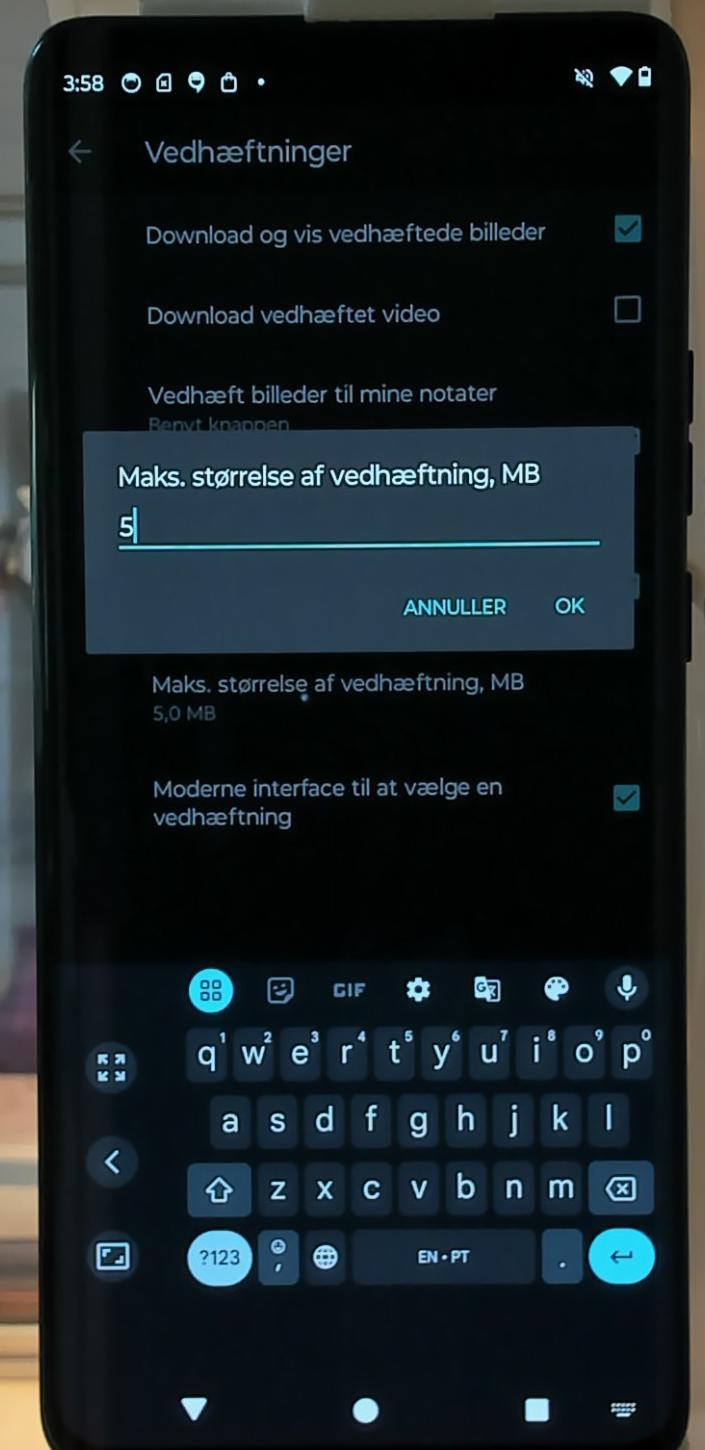CommunBotton: (76, 1121, 144, 1197), (80, 1028, 140, 1105), (593, 955, 653, 1014), (81, 1229, 140, 1286), (183, 961, 238, 1021), (525, 957, 585, 1012), (450, 961, 515, 1011), (319, 964, 378, 1016), (253, 965, 308, 1017), (389, 961, 443, 1013), (516, 1381, 561, 1439), (344, 1383, 386, 1439), (171, 1377, 213, 1431)
TextField: (110, 496, 605, 570)
TextKeyboard: (172, 1016, 670, 1301)
